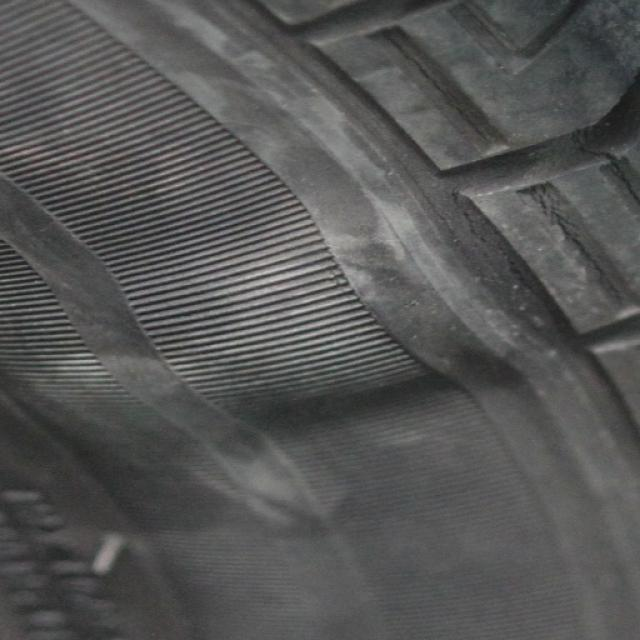Bulge: (111, 166, 535, 435)
